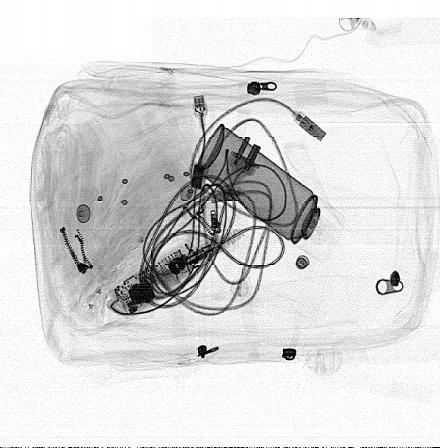Sprayer: (198, 122, 345, 265)
